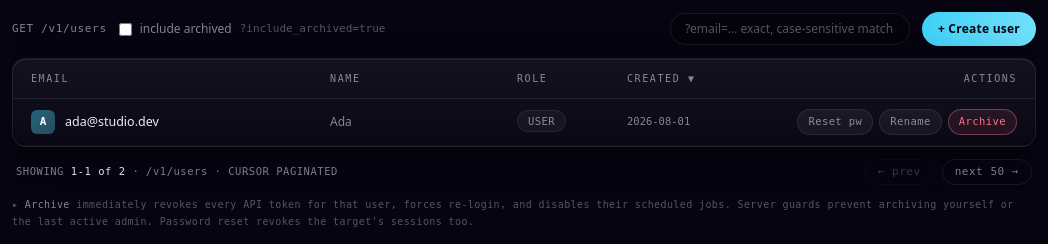
Test case: pagination walks the cursor stack and reports the computed range
Expected: the text "1-1 of 2" is shown, x1=71 y1=165 x2=126 y2=177
Expected: the button "← prev" is disabled, x1=865 y1=159 x2=934 y2=185
Click the button "next 50 →".
click(987, 172)  # box x1=942 y1=159 x2=1032 y2=185
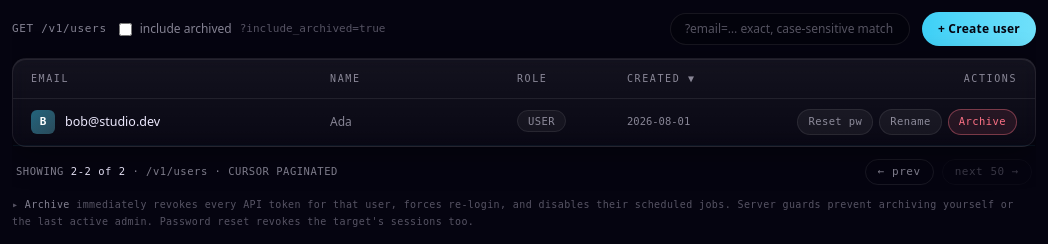
Expected: the text "bob@studio.dev" is shown, x1=65 y1=112 x2=160 y2=131
Expected: the text "2-2 of 2" is shown, x1=71 y1=165 x2=126 y2=177
Expected: the button "next 50 →" is disabled, x1=942 y1=159 x2=1032 y2=185
Click the button "← prev".
click(899, 172)  # box x1=865 y1=159 x2=934 y2=185
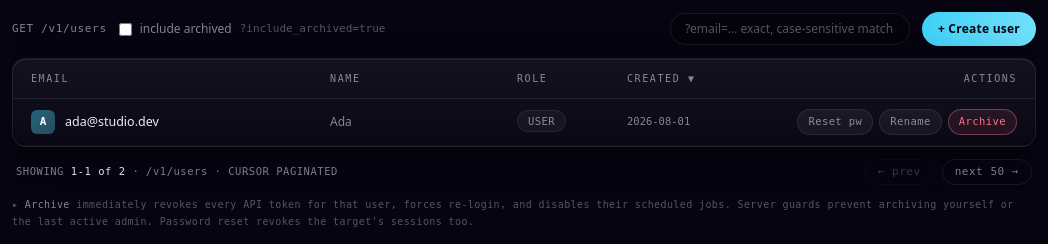
Expected: the text "ada@studio.dev" is shown, x1=65 y1=112 x2=159 y2=131
Expected: the text "1-1 of 2" is shown, x1=71 y1=165 x2=126 y2=177
